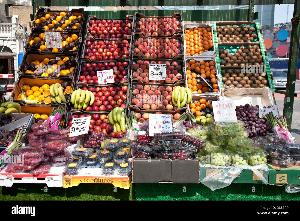apricot: (186, 60, 220, 88), (185, 25, 213, 58)
grape: (198, 121, 258, 167), (238, 94, 282, 138)
kiwi: (223, 66, 269, 90), (218, 43, 266, 65), (217, 23, 259, 43)
peach: (130, 80, 188, 110), (71, 110, 125, 138), (72, 83, 130, 109), (128, 110, 188, 132), (130, 56, 184, 80), (135, 34, 183, 56), (84, 60, 131, 82), (83, 40, 131, 60), (88, 18, 134, 38), (135, 14, 181, 34)
